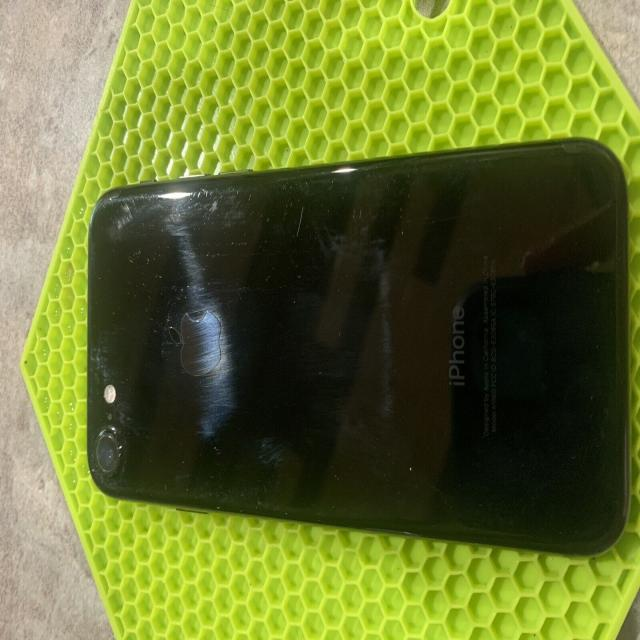Scratches: (252, 188, 324, 261), (346, 200, 384, 242), (101, 208, 151, 239)
